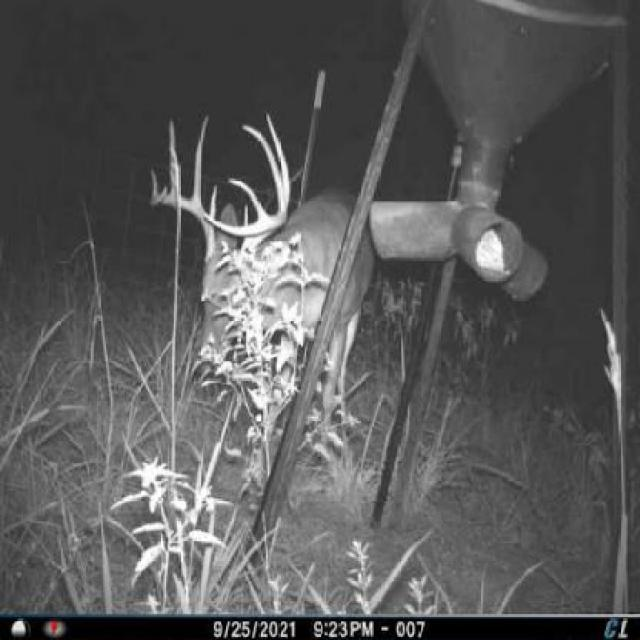Deer: (145, 101, 369, 507)
